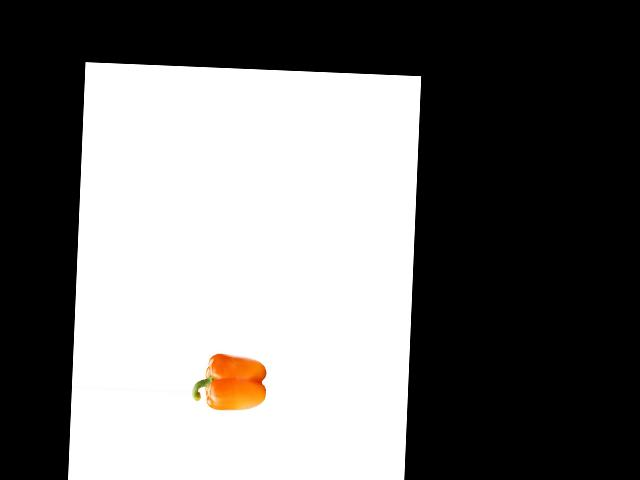bell_pepper: (191, 347, 268, 418)
